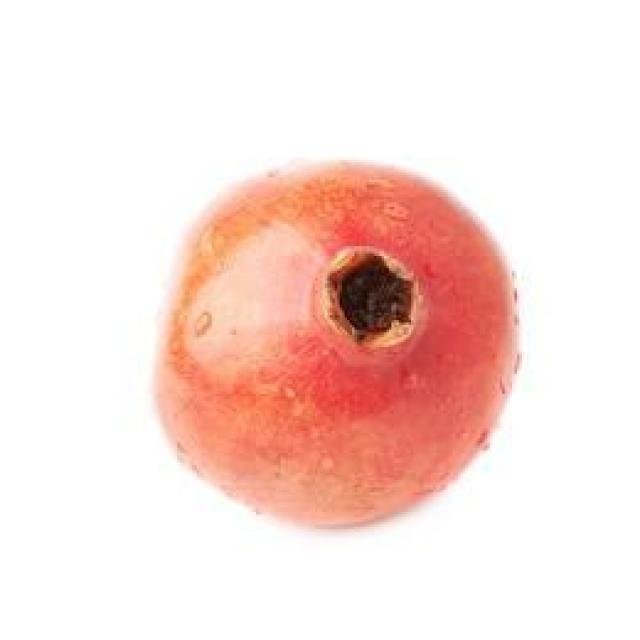Pomegranate: (148, 155, 526, 534)
